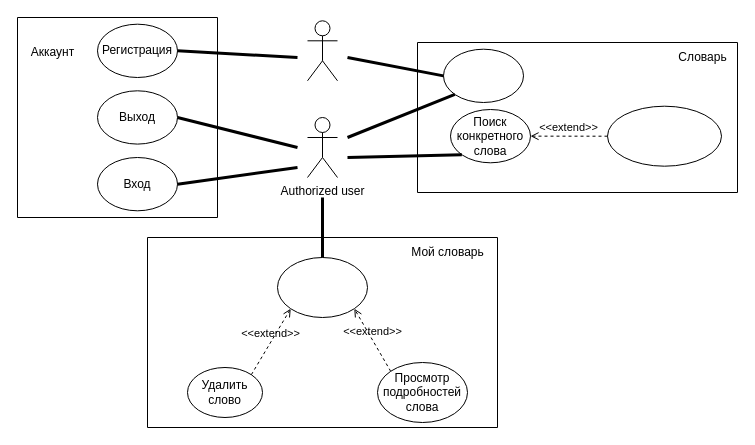
Image size: 755x445. Some labels were removed from this diagram. Here are the shapes that lost their labels. From the top down, the centre of each, then its label:
point (322, 50): Guest user
point (483, 75): Просмотр словаря
point (664, 135): Добавление слова в "Мой словарь"
point (322, 287): Список добавленных слов
